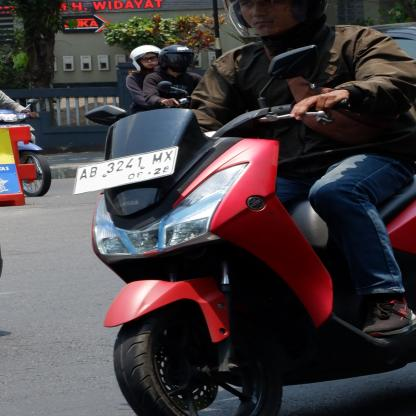Plat-Nomor: (67, 146, 181, 197)
